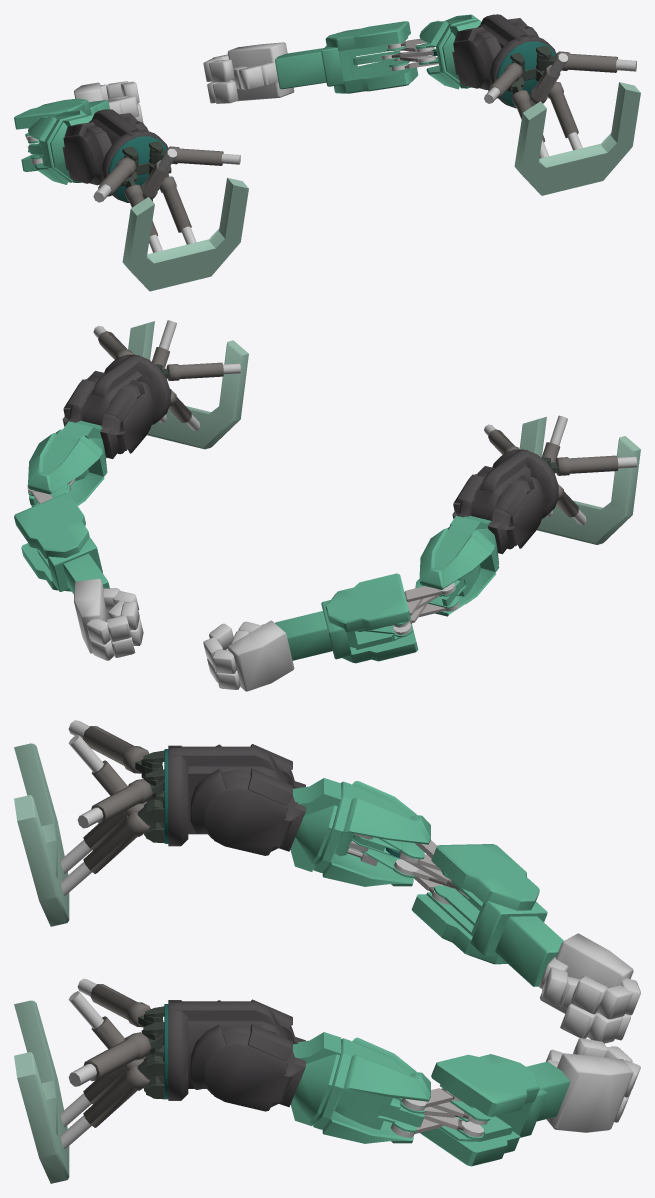
Rendered from arm.obj.
3 views of the same model, one above another, from view 1: azimuth 30°, elevation 25°; view 2: azimuth 150°, elevation 25°; view 3: azimuth 270°, elevation 25° (orthographic). The views are drawn at different scales.
Visible parts, largest first — view 1: body_side_slinder_frame, arm_ude_sita, arm_sholder, sholder_srinder, leg_center_slinder, arm_ude_up, srnder, body, sholder_kansetu_ring_body, ude-slinder-naka, arm_clinder_big; view 2: arm_ude_sita, arm_sholder, arm_ude_up, leg_center_slinder, body_side_slinder_frame, sholder_srinder, srnder, arm_clinder_big; view 3: arm_sholder, arm_ude_sita, arm_ude_up, leg_center_slinder, sholder_srinder, body_side_slinder_frame, srnder, sholder_kansetu_ring_body, arm_clinder_big, ude-slinder-naka, body.
Part boxes in pixels (<box>): body_side_slinder_frame: <box>122,82,640,291</box>; arm_ude_sita: <box>14,21,418,171</box>; arm_sholder: <box>62,14,556,202</box>; sholder_srinder: <box>98,41,618,236</box>; leg_center_slinder: <box>74,42,294,122</box>; arm_ude_up: <box>28,14,481,184</box>; srnder: <box>93,53,636,252</box>; body: <box>108,41,555,202</box>; sholder_kansetu_ring_body: <box>121,45,558,201</box>; ude-slinder-naka: <box>26,41,435,164</box>; arm_clinder_big: <box>400,38,438,68</box>; arm_ude_sita: <box>14,493,418,663</box>; arm_sholder: <box>62,354,558,554</box>; arm_ude_up: <box>28,420,499,616</box>; leg_center_slinder: <box>74,578,294,691</box>; body_side_slinder_frame: <box>128,321,640,544</box>; sholder_srinder: <box>98,331,618,623</box>; srnder: <box>93,320,636,525</box>; arm_clinder_big: <box>32,491,445,622</box>; arm_sholder: <box>168,744,305,1111</box>; arm_ude_sita: <box>411,844,570,1166</box>; arm_ude_up: <box>290,778,430,1143</box>; leg_center_slinder: <box>539,933,640,1132</box>; sholder_srinder: <box>83,726,468,1130</box>; body_side_slinder_frame: <box>14,743,69,1183</box>; srnder: <box>60,720,103,1149</box>; sholder_kansetu_ring_body: <box>135,750,167,1099</box>; arm_clinder_big: <box>399,840,463,1133</box>; ude-slinder-naka: <box>390,850,487,1137</box>; body: <box>164,749,399,1098</box>.
Bounding box in the file's own units: 0.971 × 0.2735 × 0.7216.
